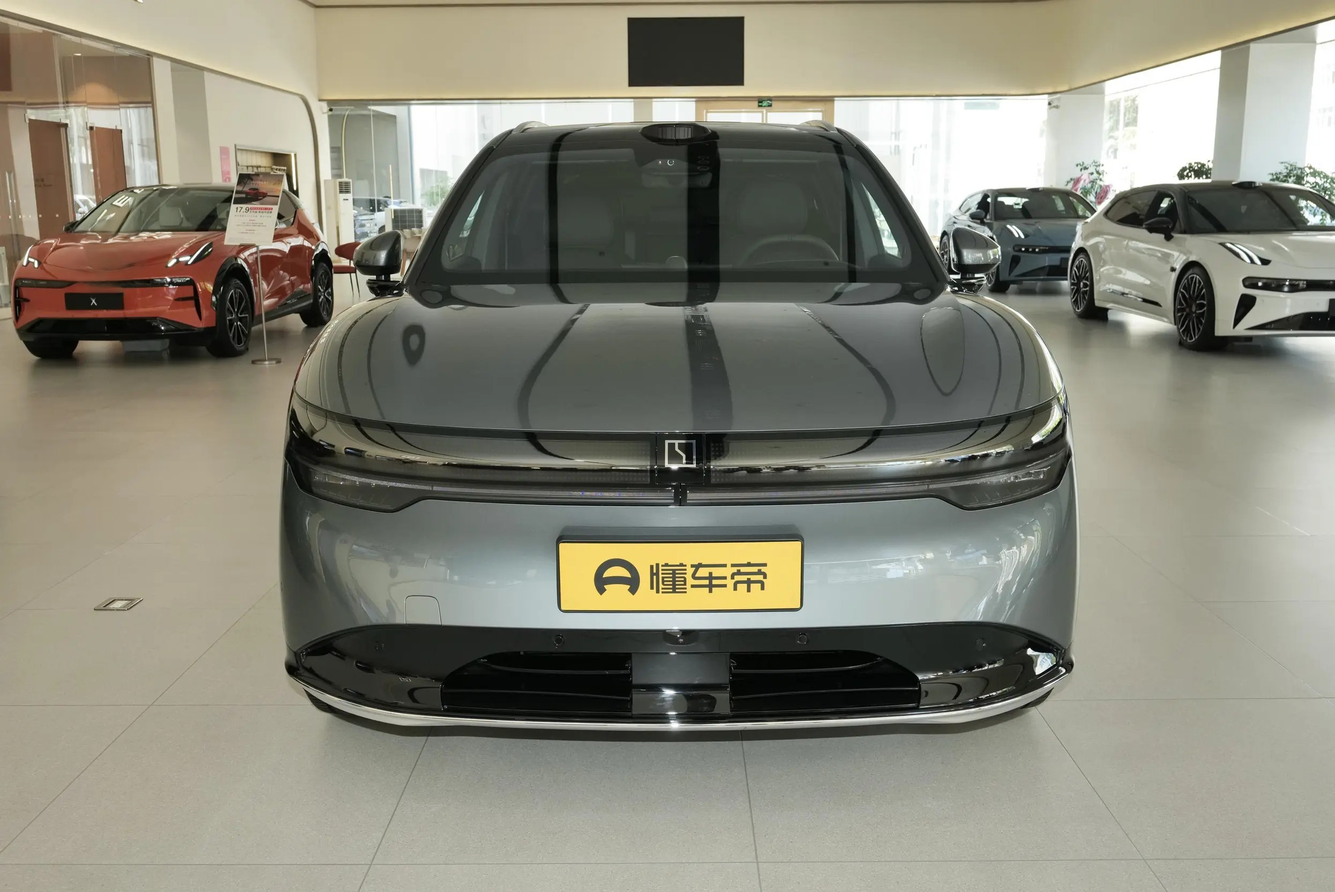ZEEKR: (665, 440, 695, 467)
